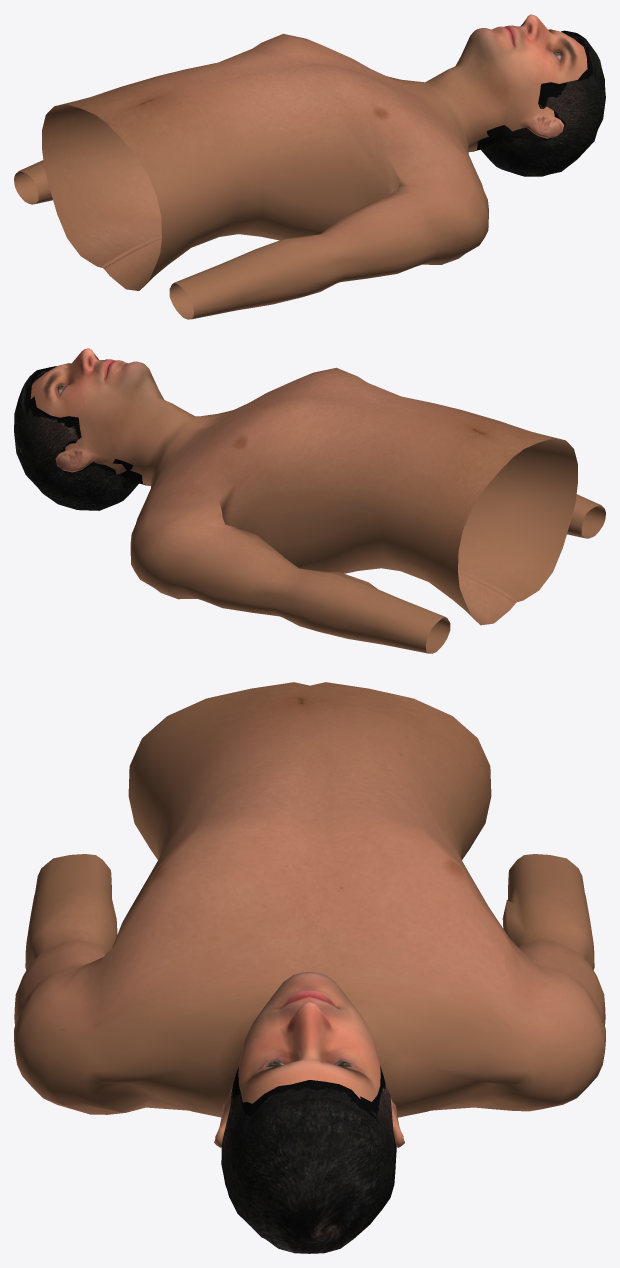
The model's file is patient.FBX.
The picture shows the model from 3 angles, top to bottom: view 1: azimuth 30°, elevation 25°; view 2: azimuth 150°, elevation 25°; view 3: azimuth 270°, elevation 25°; orthographic projection. The views are drawn at different scales.
Parts seen in each view (by area): view 1: stretcher; view 2: stretcher; view 3: stretcher.
Boxes of the visible parts, bbox=[...] form: stretcher: bbox=[14, 14, 605, 319]; stretcher: bbox=[14, 348, 605, 653]; stretcher: bbox=[14, 682, 605, 1253].
Bounding box in the file's own units: 0.7459 × 0.2467 × 0.5074.
